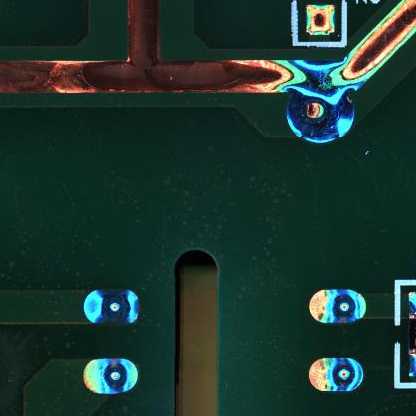spot: (286, 77, 358, 146), (81, 289, 142, 328), (306, 288, 369, 324), (308, 356, 364, 391), (83, 358, 137, 393)
